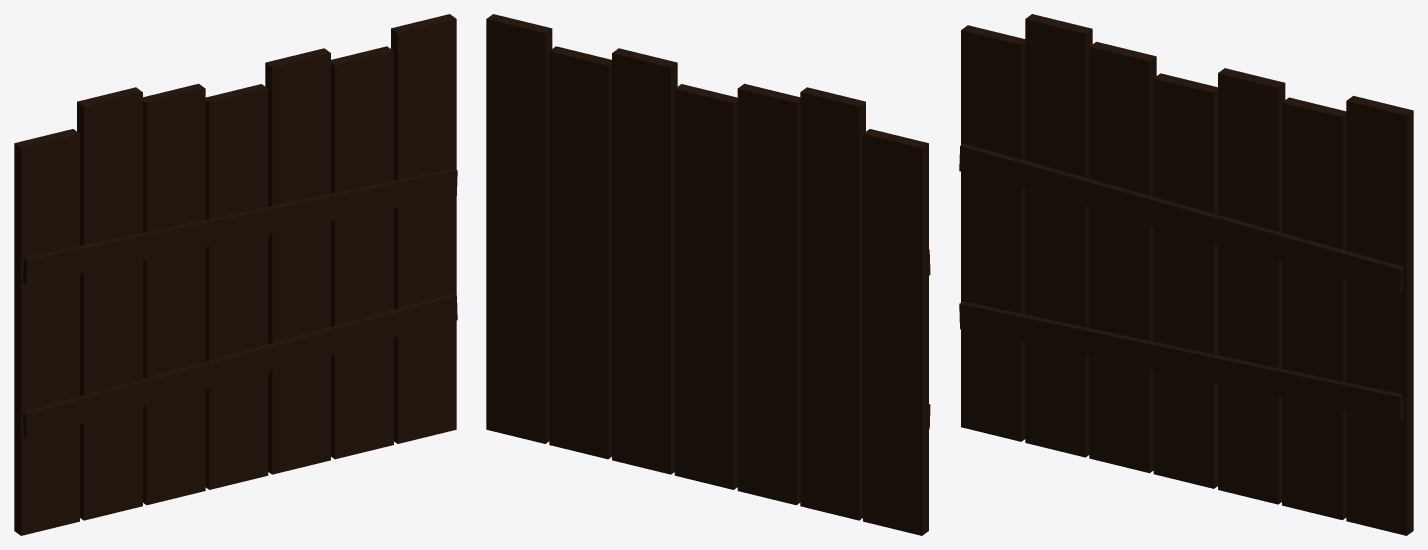
Rendered from Feence.FBX.
3 views of the same model, side by side, from view 1: azimuth 30°, elevation 25°; view 2: azimuth 150°, elevation 25°; view 3: azimuth 330°, elevation 25° (orthographic). The views are drawn at different scales.
Visible parts, largest first — view 1: TreeFence; view 2: TreeFence; view 3: TreeFence.
Boxes of the visible parts, box(x1,y1,x2,y2) form: TreeFence: box(14, 14, 457, 535); TreeFence: box(486, 14, 930, 535); TreeFence: box(959, 14, 1413, 535).
Size of the model in its own units: 279 by 254 by 11.46.
